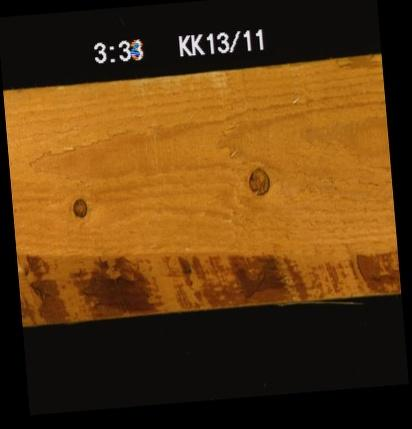dry_knot: (247, 165, 270, 196), (71, 195, 87, 217)
wave: (18, 224, 397, 309), (336, 55, 382, 71)
